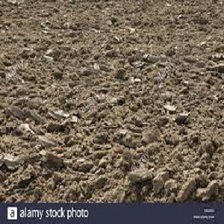loamy_soil: (15, 16, 212, 198)
